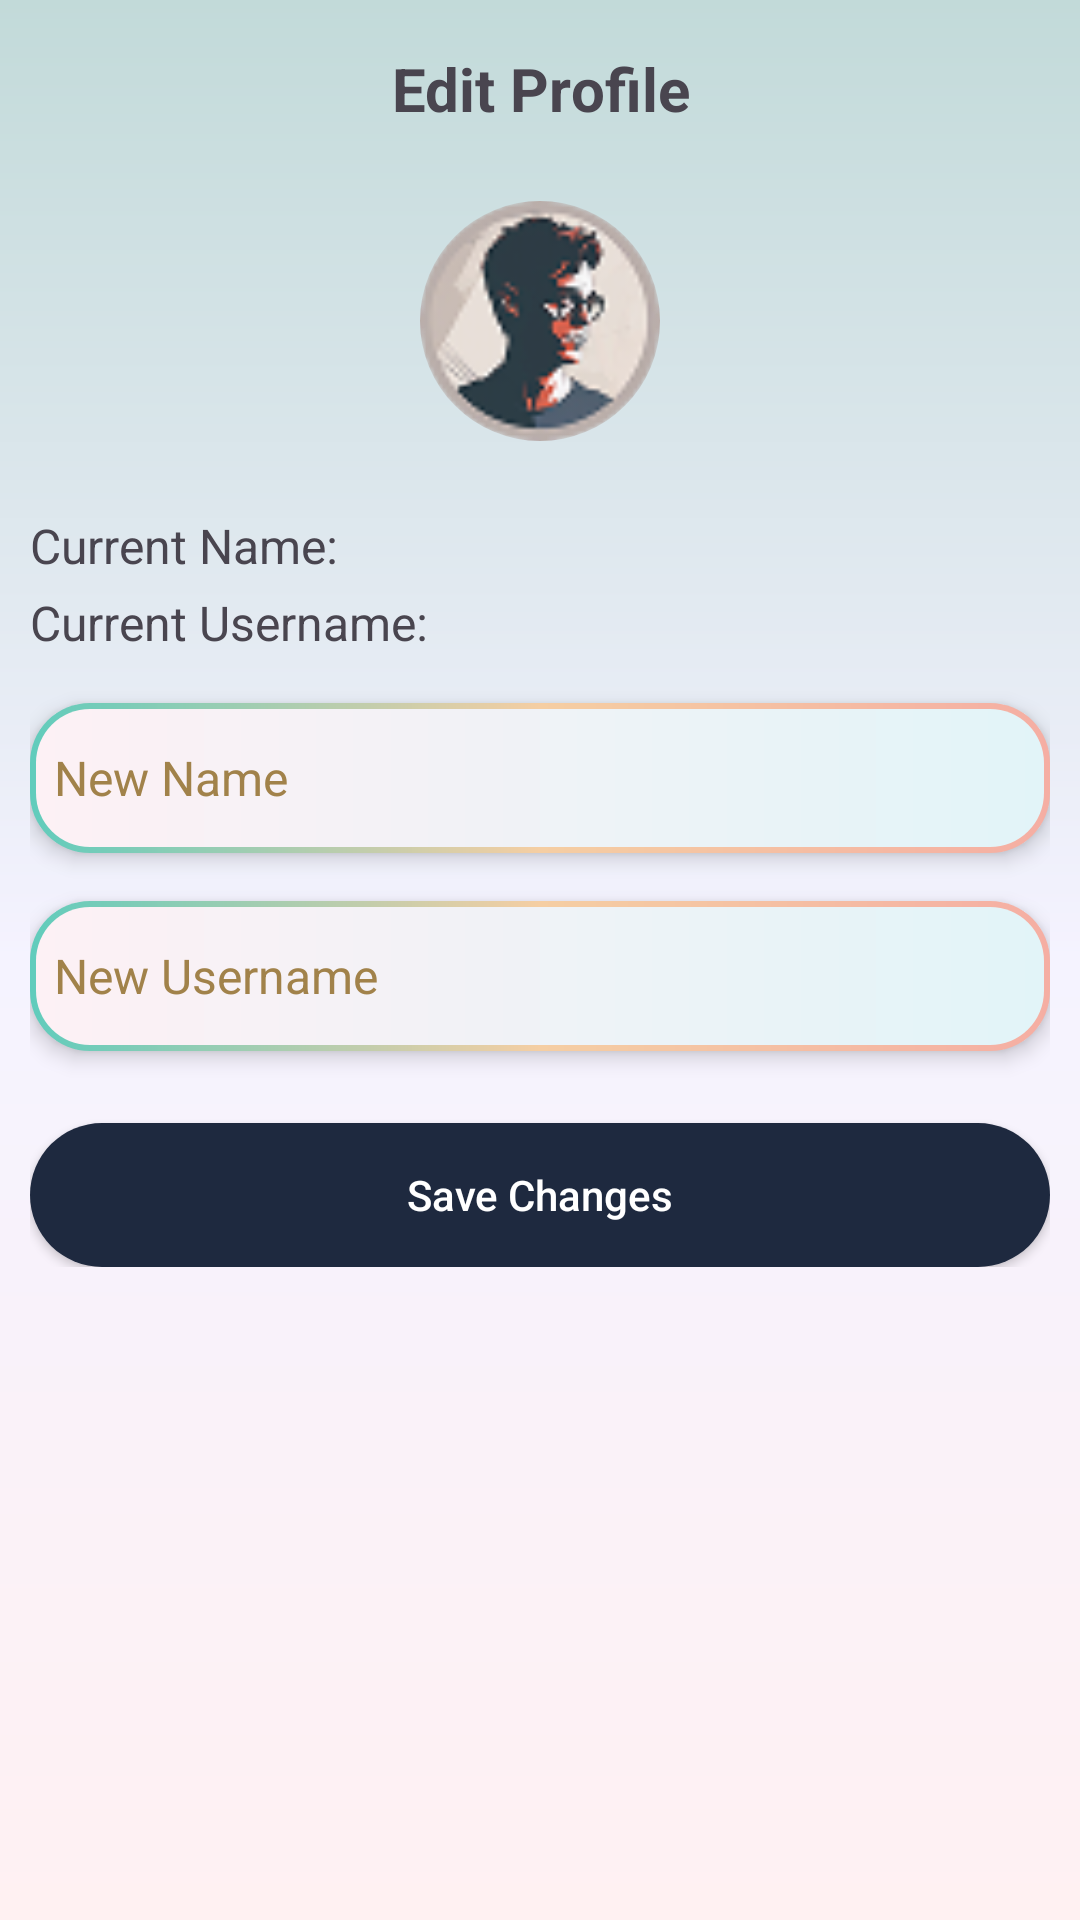

Locate icon controls on the screen. Image size 1080*1920, boxes as detection(x1, y1, x2, y2).
Avatar: detection(420, 201, 660, 441)
